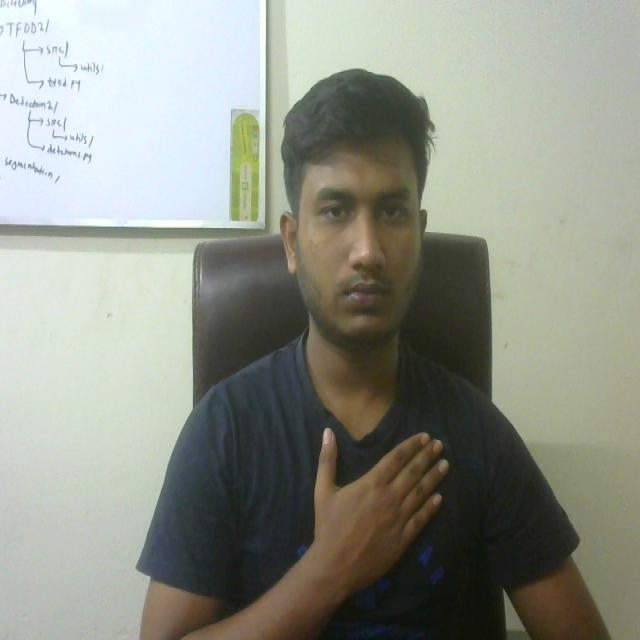Please: (290, 407, 461, 602)
